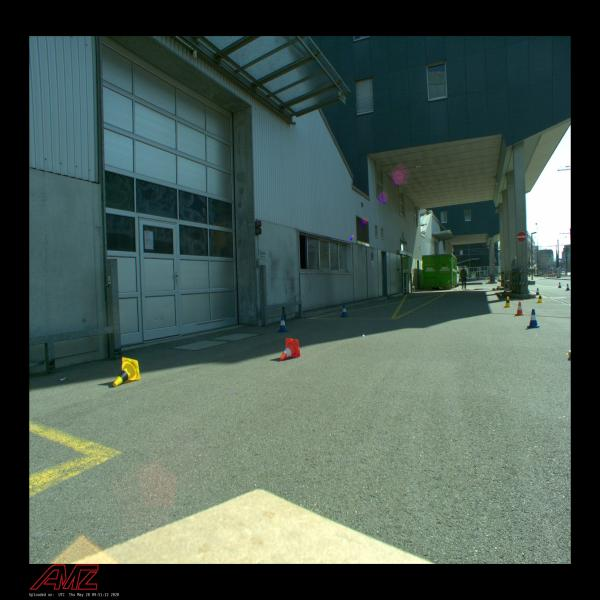blue_cone: (527, 309, 540, 328), (276, 315, 289, 333), (340, 305, 348, 317), (536, 288, 540, 296), (566, 284, 570, 291), (558, 283, 562, 288)
orange_cone: (280, 338, 300, 361), (514, 301, 524, 316)
yellow_cone: (112, 357, 140, 387), (503, 296, 512, 308), (537, 293, 544, 303)
